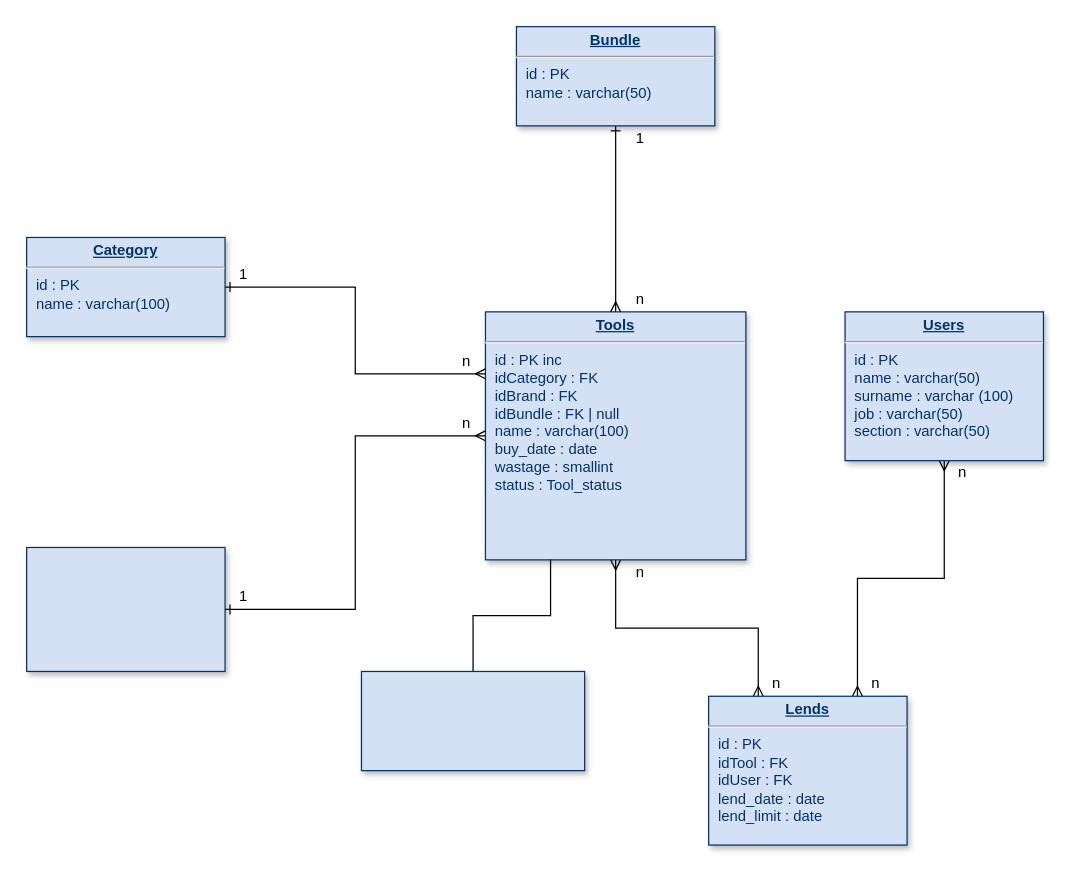
Image size: 1073x875. Some labels were removed from this diagram. Here are the shapes that lost their labels. From the top down, the centre of each, then its label:
pixel 126 610: Brand id : PK name : varchar(50) waste_rate : smallint
pixel 473 722: <<enum type>> Tool_status [available, unavailable, lended]
